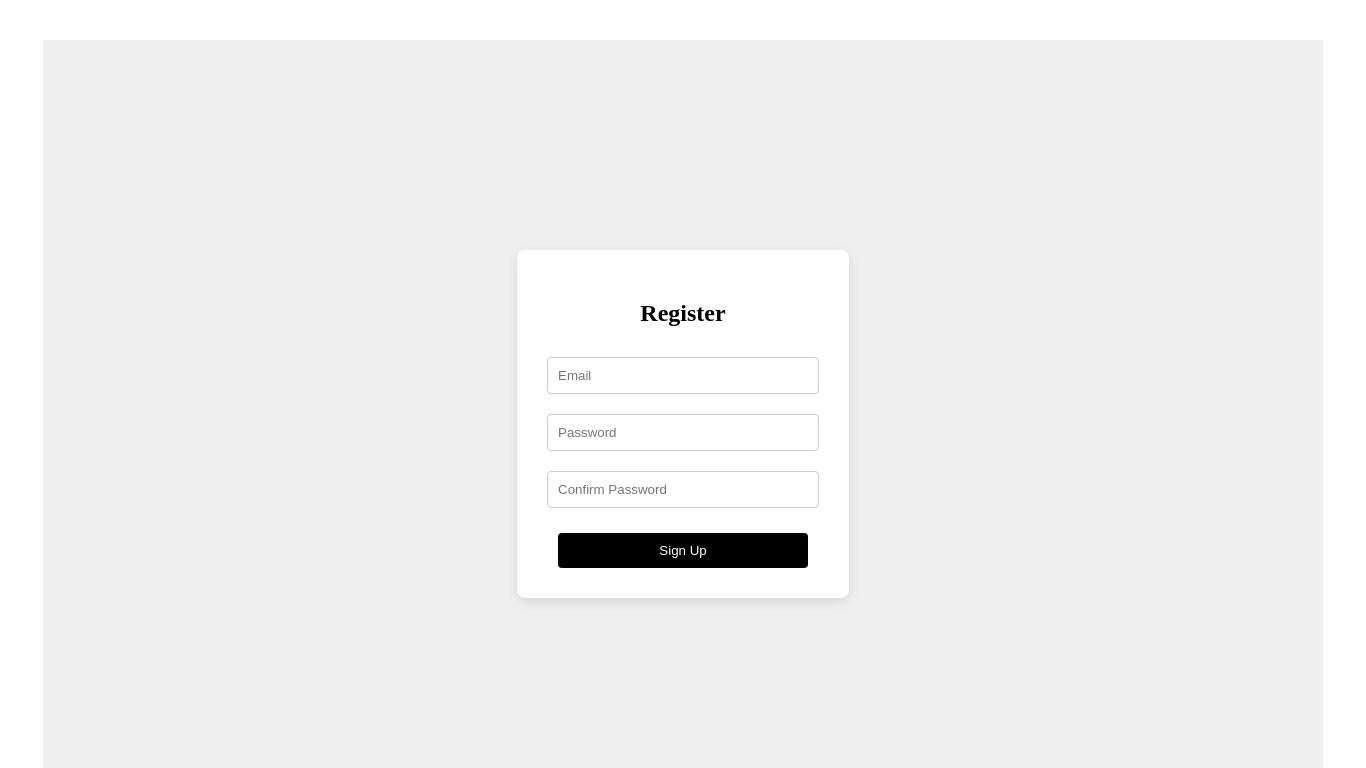
Test: Register Component › displays error message for password mismatch
The width and height of the screenshot is (1366, 768).
Type "password123" into the password field with placeholder "Password" at (683, 432), box [547,414,819,451]
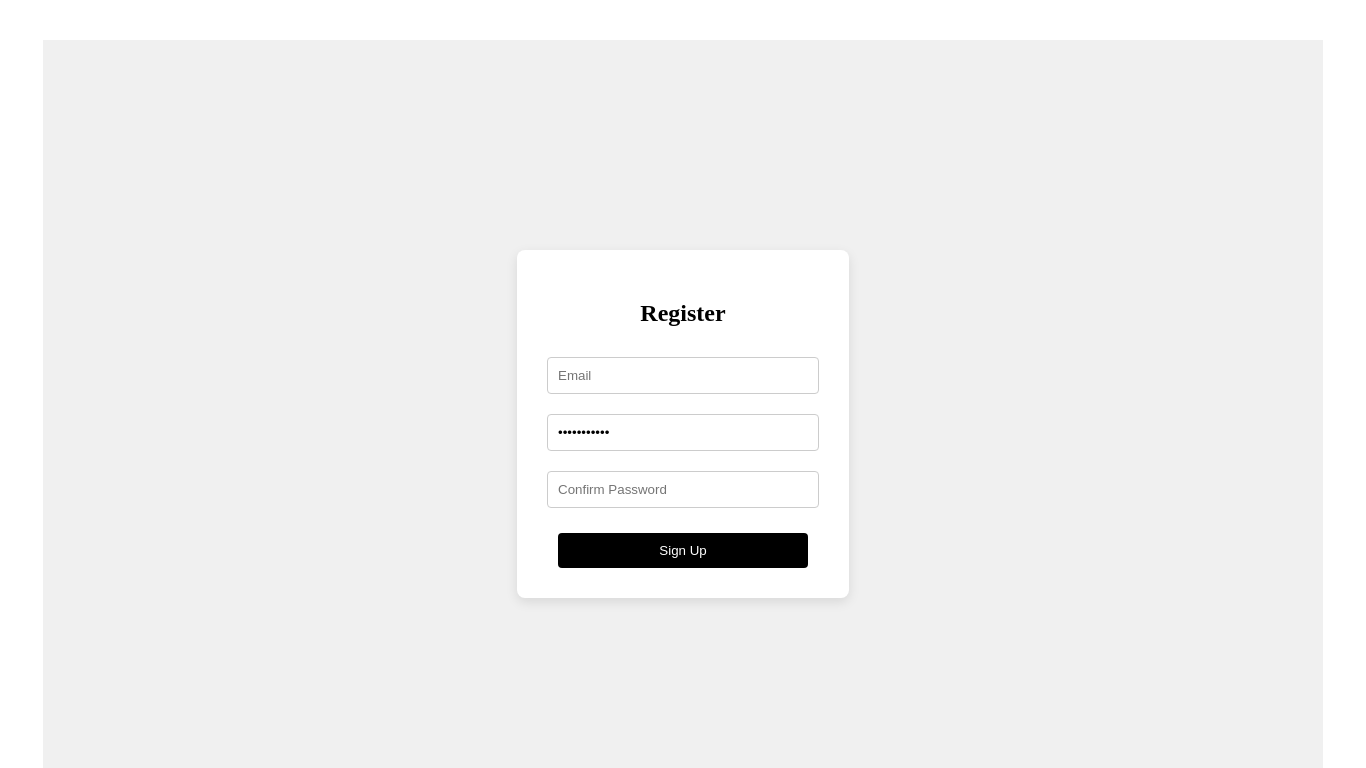
Type "differentpassword" into the password field with placeholder "Confirm Password" at (683, 490), box [547,471,819,508]
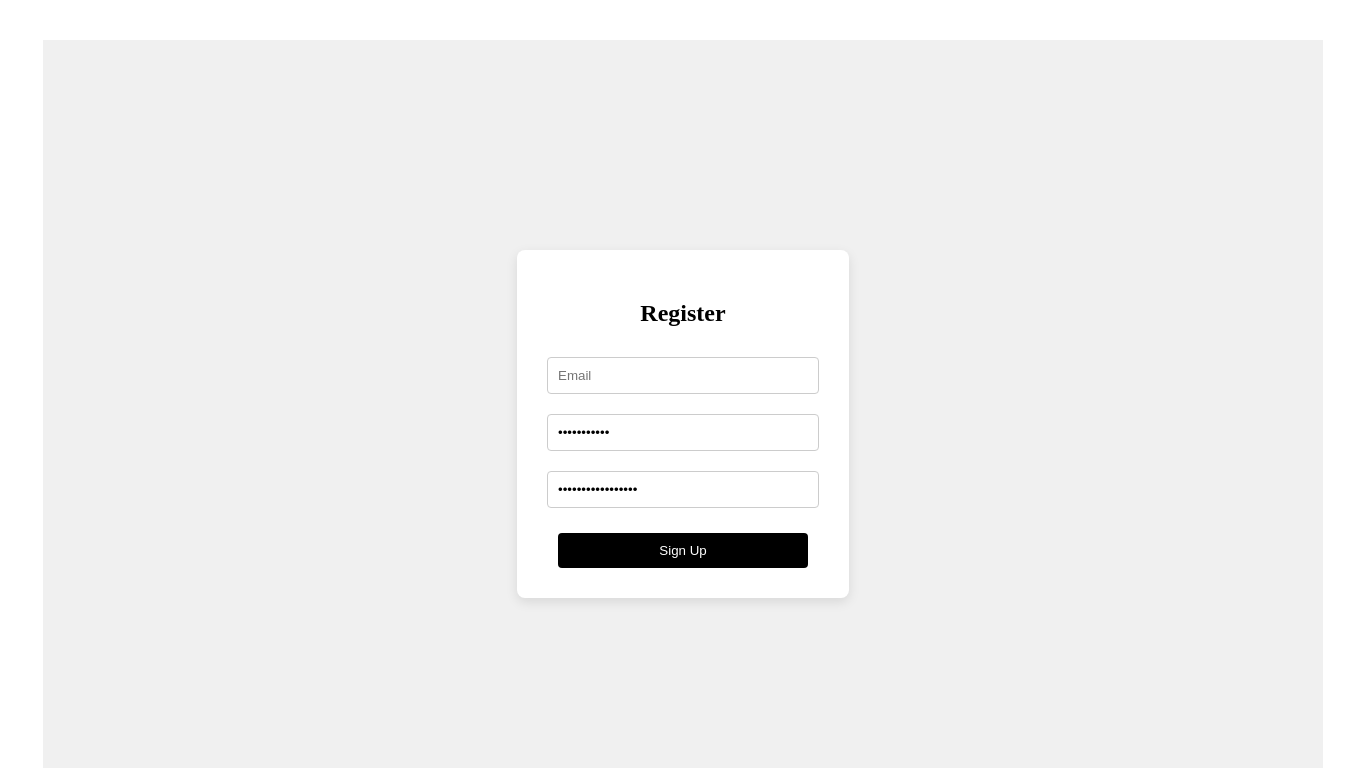
Click the button "Sign Up" at (683, 550), box [558,533,808,568]
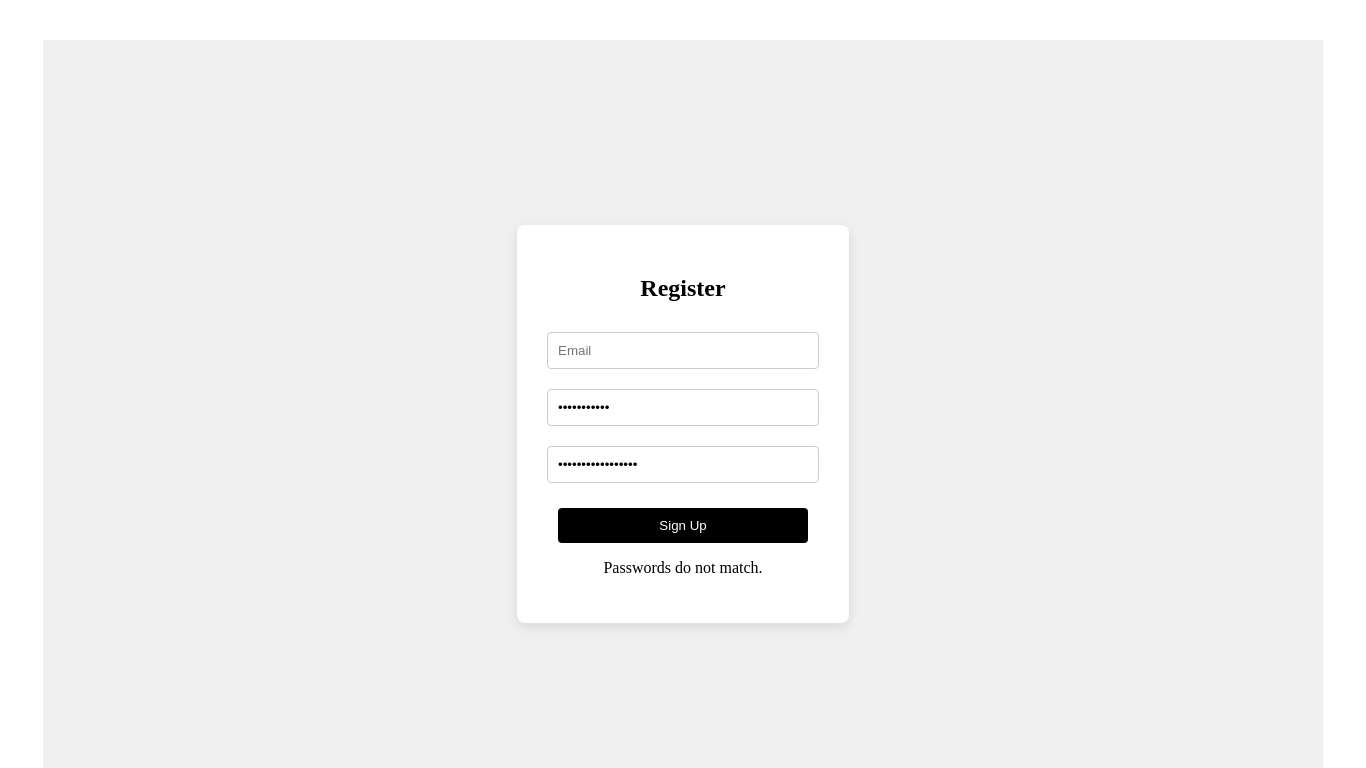
Result: the text "Passwords do not match." is shown at [603,559,762,577]
